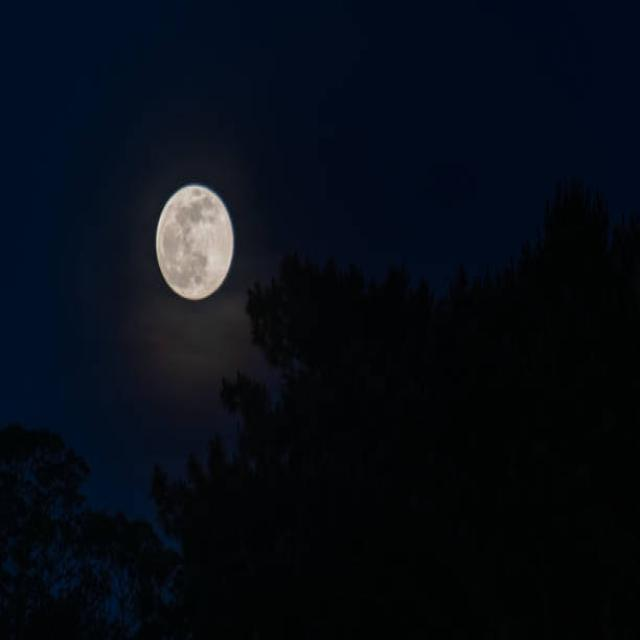moon: (154, 186, 234, 298)
